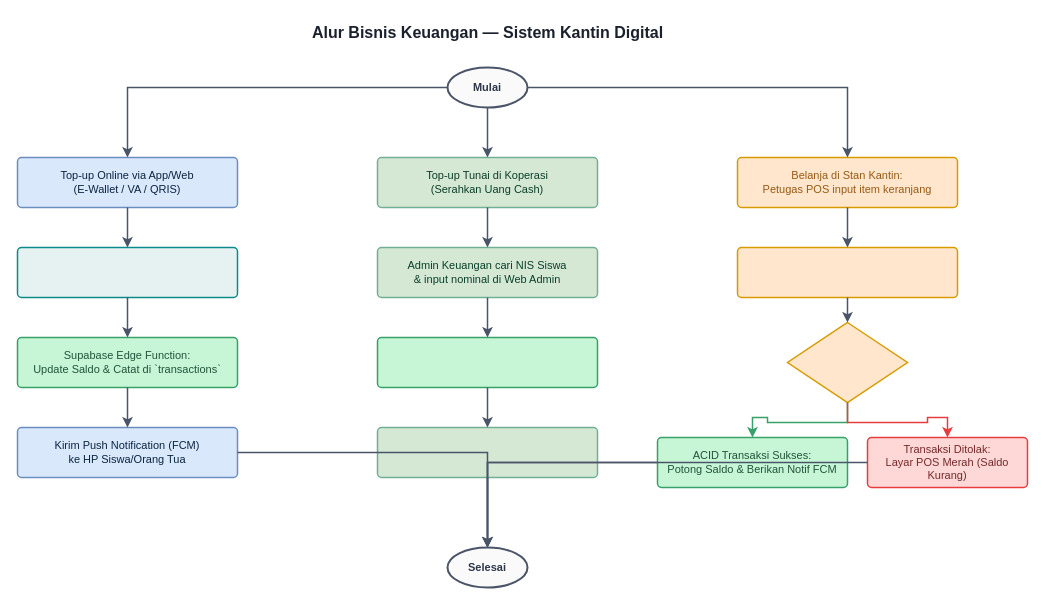
Some shapes in this 1046 by 605 pixel diagram are drawn without their labels. Each missing label, with the centre of its shape:
"DB: Update Saldo, Catat Transaksi, & Tulis Audit Log (Insert-Only)" goes at pixel 487 362.
"Midtrans memproses pembayaran & mengirim HTTP Webhook" goes at pixel 127 272.
"Siswa tap kartu NFC di HP Kasir; Kasir baca UID & request checkout" goes at pixel 847 272.
"Validasi Saldo Aktual Server?" goes at pixel 847 362.
"Web Admin: Cetak Bukti Transaksi Manual" goes at pixel 487 452.
